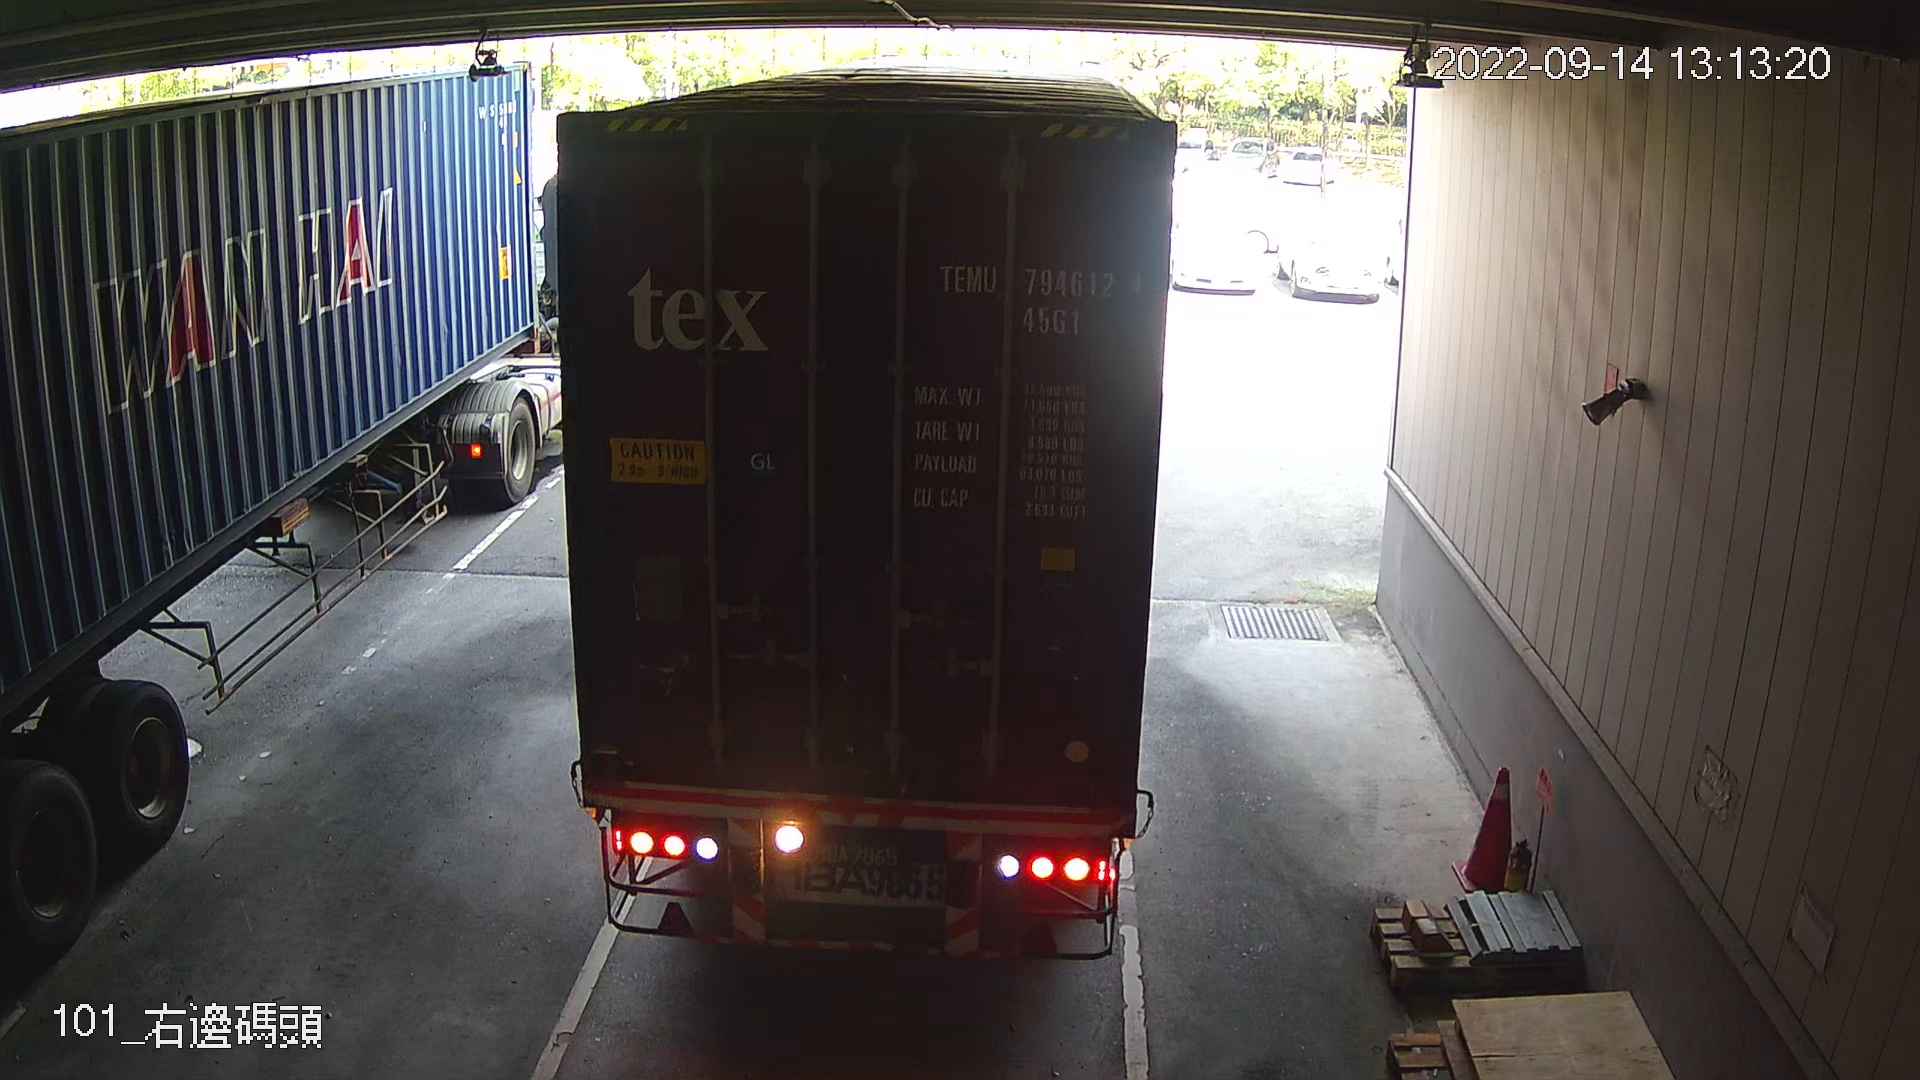container: (928, 251, 1154, 342)
